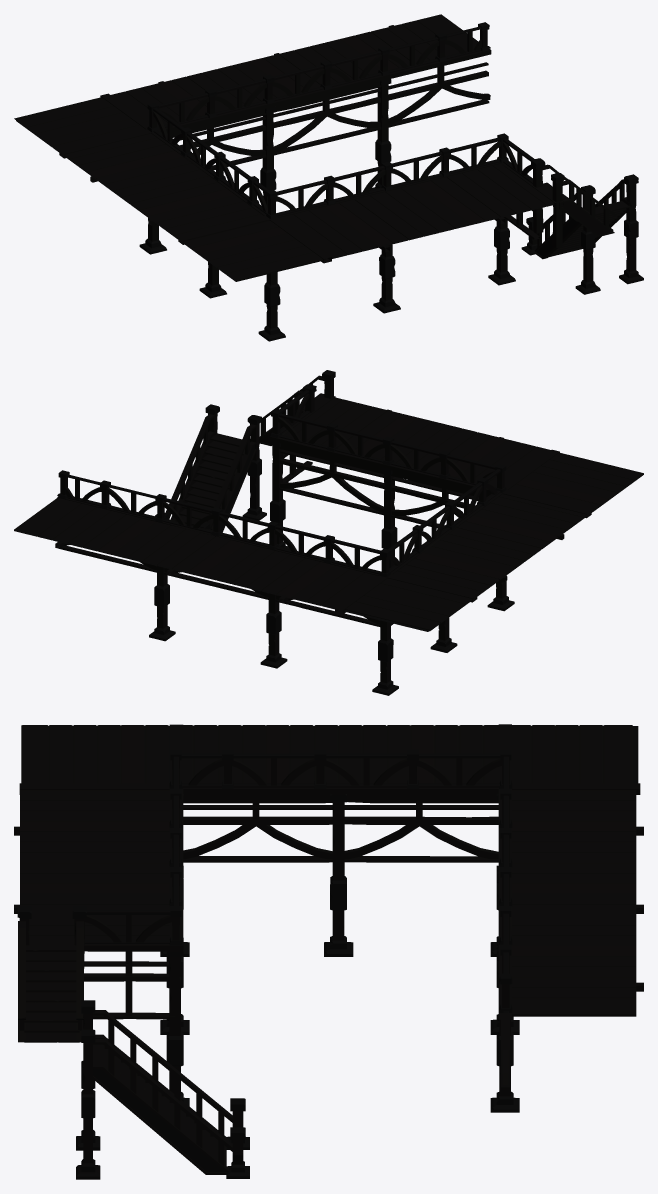
The model's file is SFT_Building_Attachable_Interior_SecondFloor.fbx.
3 views of the same model, one above another, from view 1: azimuth 30°, elevation 25°; view 2: azimuth 150°, elevation 25°; view 3: azimuth 270°, elevation 25° (orthographic). The views are drawn at different scales.
Parts seen in each view (by area): view 1: SFT_Building_Attachable_Interior_SecondFloor; view 2: SFT_Building_Attachable_Interior_SecondFloor; view 3: SFT_Building_Attachable_Interior_SecondFloor.
Boxes of the visible parts, box(x1,y1,x2,y2) form: SFT_Building_Attachable_Interior_SecondFloor: box(14, 14, 643, 341); SFT_Building_Attachable_Interior_SecondFloor: box(14, 370, 643, 695); SFT_Building_Attachable_Interior_SecondFloor: box(14, 724, 643, 1179).
Size of the model in its own units: 1794 by 576 by 1642.
